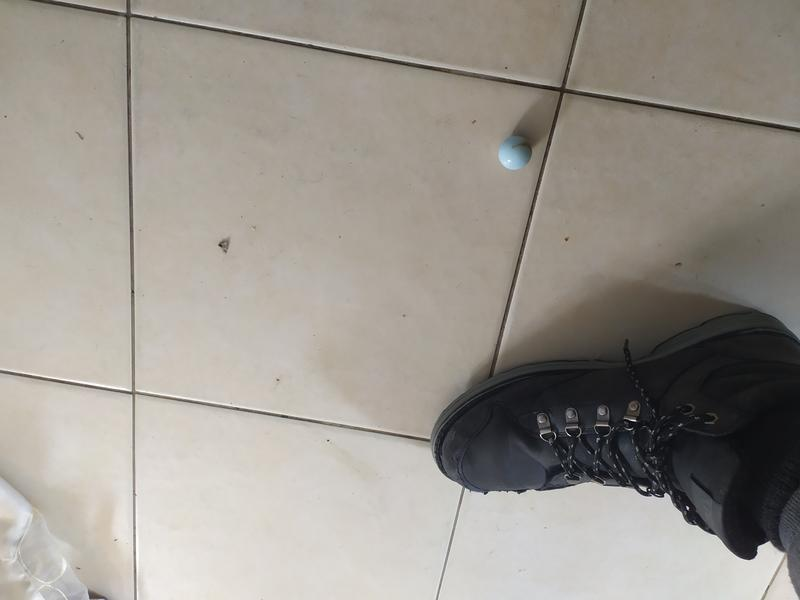Warning: (496, 132, 535, 173)
